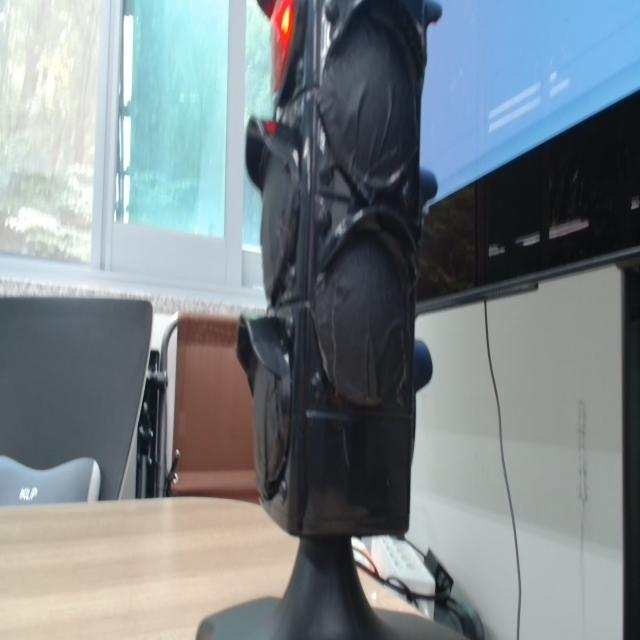red_light: (271, 0, 295, 93)
